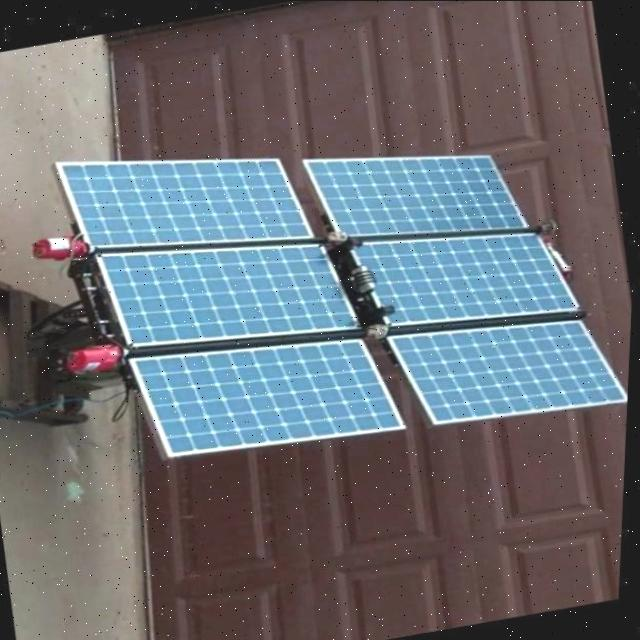Normal Solar Panel: (128, 314, 412, 469), (95, 210, 364, 366), (52, 119, 318, 275), (389, 296, 635, 438), (354, 207, 584, 345), (302, 122, 532, 260)
